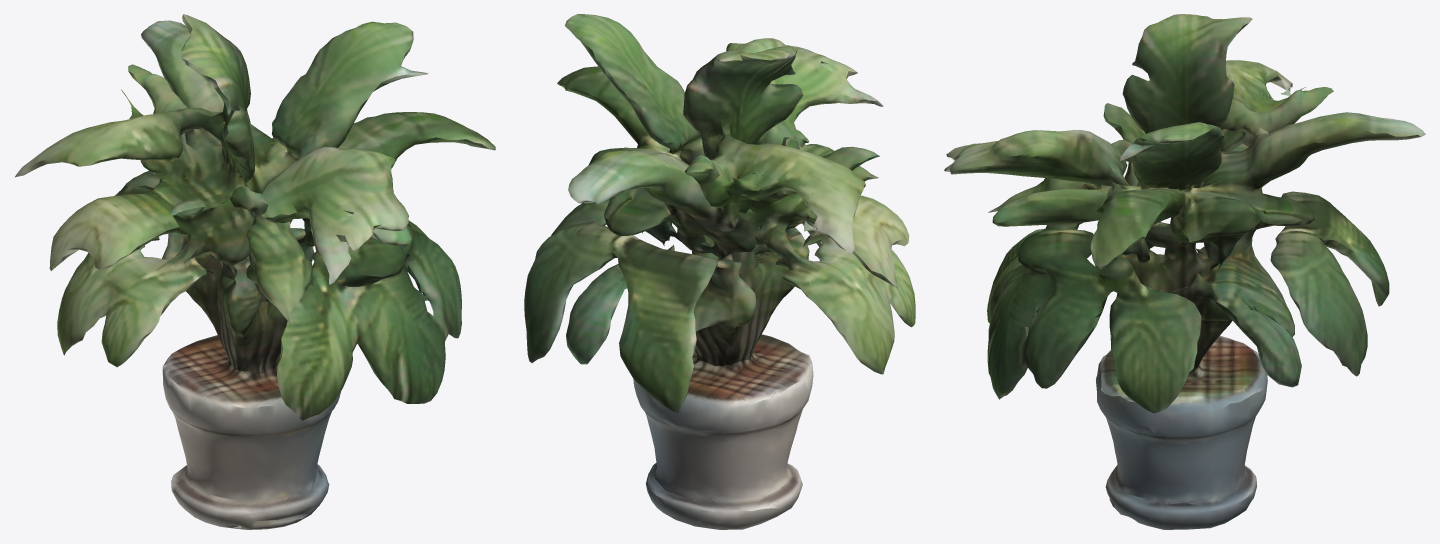
Rendered from potted_plant.glb.
3 views of the same model, side by side, from view 1: azimuth 30°, elevation 25°; view 2: azimuth 150°, elevation 25°; view 3: azimuth 270°, elevation 25° (orthographic).
Parts seen in each view (by area): view 1: Object_2; view 2: Object_2; view 3: Object_2.
Boxes of the visible parts, x1,y1,x2,y2 form: Object_2: [15, 14, 495, 529]; Object_2: [524, 14, 915, 529]; Object_2: [944, 14, 1425, 529].
Size of the model in its own units: 1.54 by 1.79 by 1.65.
Materials: 1 (1 with a texture image).
